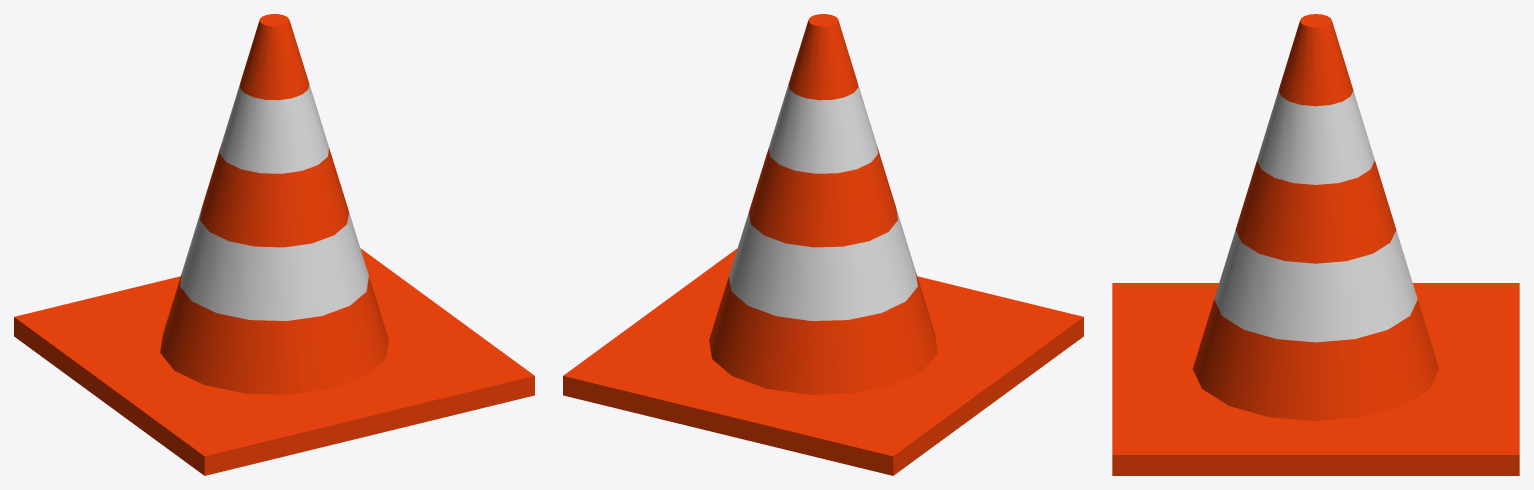
Rendered from Pylon.fbx.
3 renders of one model, left to right at view 1: azimuth 30°, elevation 25°; view 2: azimuth 150°, elevation 25°; view 3: azimuth 270°, elevation 25°, orthographic. The views are drawn at different scales.
Visible parts, largest first — view 1: Cylinder; view 2: Cylinder; view 3: Cylinder.
Part boxes in pixels (left/top/right/bottom): Cylinder: left=14, top=14, right=534, bottom=475; Cylinder: left=563, top=14, right=1083, bottom=475; Cylinder: left=1112, top=14, right=1519, bottom=475.
Bounding box in the file's own units: 50.02 × 50.03 × 50.02.
